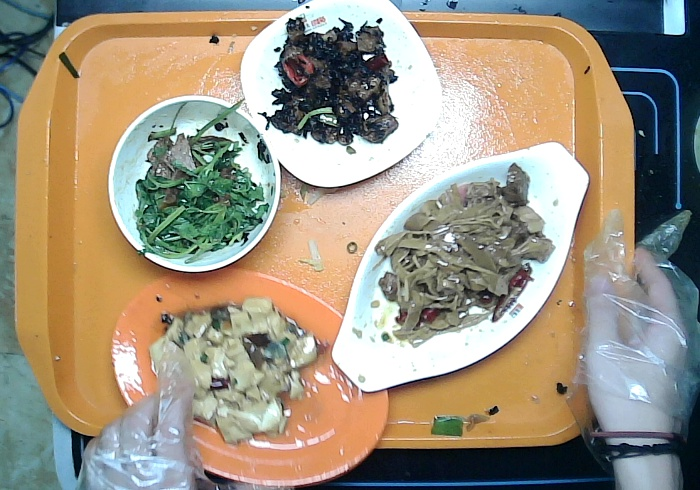NLDX-Bai_Se_Xiao_Fang_Die: (239, 1, 444, 188)
NLDX-Fan_Wan: (106, 93, 283, 274)
NLDX-Ju_Se_Pan: (108, 266, 392, 487)
NLDX-Yu_Pan: (329, 139, 593, 393)
